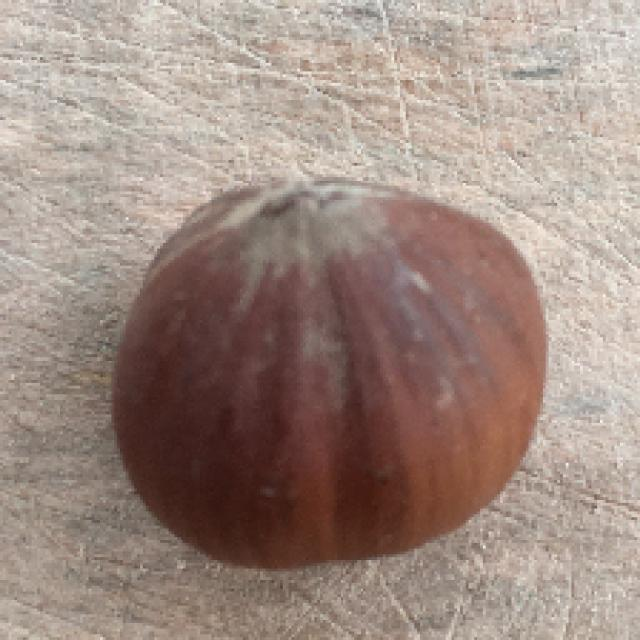DamagedHazelnut: (111, 177, 548, 574)
